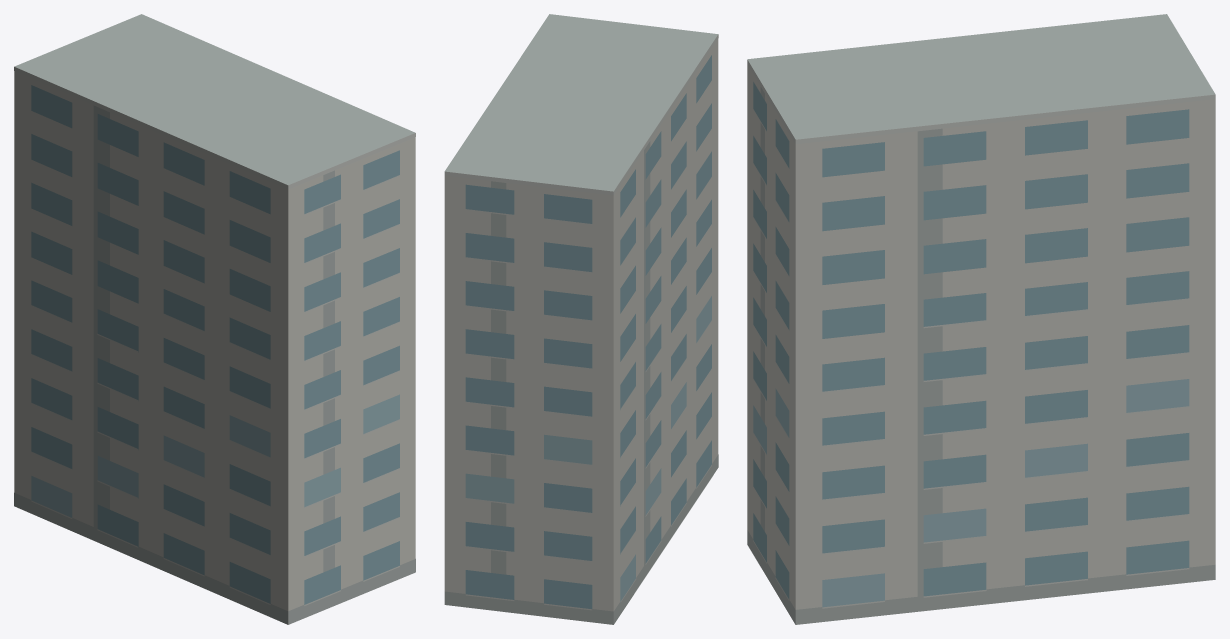
Rendered from residential-ec7d4f45-e198-4128-83bb-2d3175ee7b43.glb.
3 views of the same model, side by side, from view 1: azimuth 30°, elevation 25°; view 2: azimuth 150°, elevation 25°; view 3: azimuth 270°, elevation 25° (orthographic). The views are drawn at different scales.
Parts seen in each view (by area): view 1: residential-ec7d4f45-e198-4128-83bb-2d3175ee7b43.tmp; view 2: residential-ec7d4f45-e198-4128-83bb-2d3175ee7b43.tmp; view 3: residential-ec7d4f45-e198-4128-83bb-2d3175ee7b43.tmp.
Part boxes in pixels (bbox=[...]): residential-ec7d4f45-e198-4128-83bb-2d3175ee7b43.tmp: bbox=[14, 14, 415, 624]; residential-ec7d4f45-e198-4128-83bb-2d3175ee7b43.tmp: bbox=[444, 14, 718, 624]; residential-ec7d4f45-e198-4128-83bb-2d3175ee7b43.tmp: bbox=[747, 14, 1215, 624].
Bounding box in the file's own units: 13.9 × 25 × 21.89.
